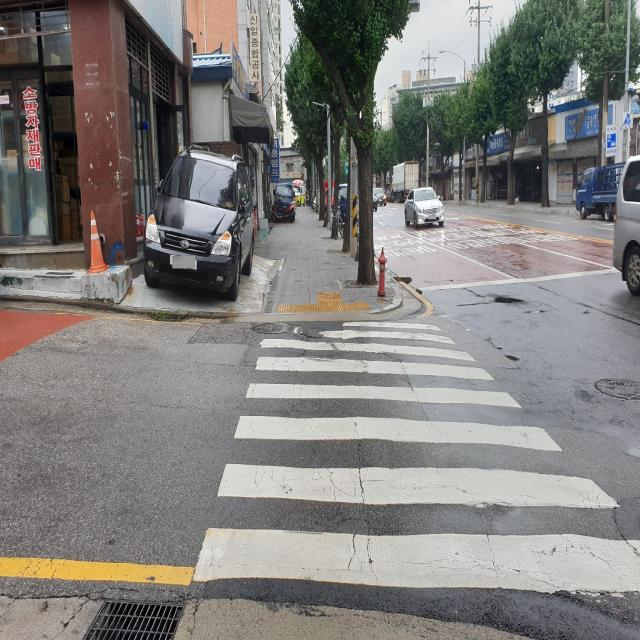횡단보도: (193, 322, 640, 598)
